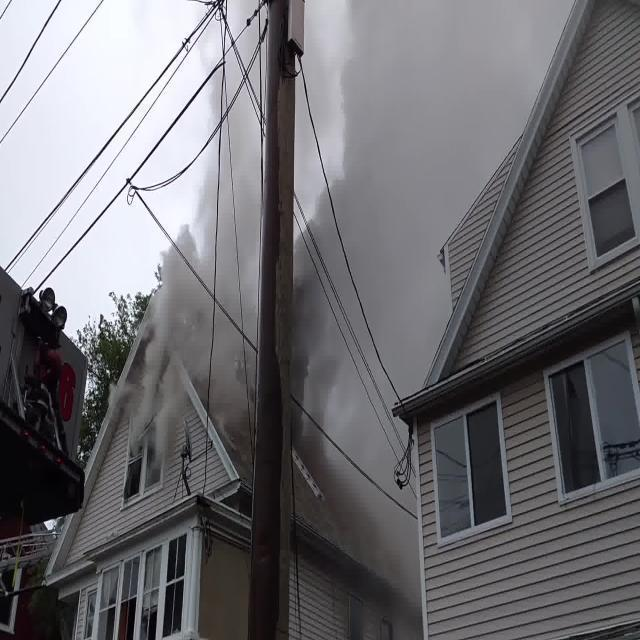Smoke: (348, 37, 445, 189), (361, 117, 434, 284), (458, 37, 506, 157), (314, 352, 347, 418), (388, 301, 421, 367), (343, 496, 379, 552), (233, 119, 256, 188)
